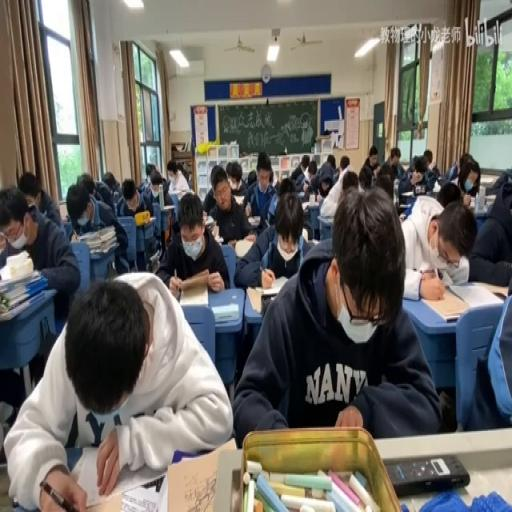calculator: (164, 443, 230, 512), (448, 280, 504, 309), (0, 266, 39, 292), (178, 278, 208, 304), (76, 224, 113, 242), (212, 302, 238, 322), (234, 236, 256, 258), (89, 244, 117, 258), (136, 214, 158, 228), (148, 248, 160, 270), (205, 215, 217, 232), (170, 188, 188, 199), (232, 193, 246, 205), (483, 193, 496, 205), (298, 188, 310, 200), (246, 214, 260, 224), (306, 234, 320, 244), (160, 203, 174, 212), (318, 213, 332, 222), (431, 181, 440, 192), (400, 189, 414, 196), (398, 202, 408, 210), (309, 192, 317, 202), (301, 226, 307, 239), (301, 201, 310, 209), (202, 209, 208, 221), (214, 236, 223, 243)
paper: (8, 271, 232, 512), (232, 184, 434, 442), (0, 183, 82, 323), (398, 192, 472, 299), (157, 189, 227, 292), (69, 178, 131, 276), (467, 170, 512, 288), (244, 151, 278, 230), (397, 152, 434, 211), (202, 161, 238, 216), (438, 151, 472, 192), (118, 178, 150, 219), (145, 164, 174, 206), (304, 161, 324, 199), (384, 145, 403, 181), (362, 145, 380, 178), (102, 169, 120, 195), (291, 155, 308, 182), (340, 170, 358, 194), (81, 175, 97, 199), (276, 176, 294, 196), (178, 162, 190, 186), (406, 155, 417, 178), (427, 160, 440, 178), (423, 148, 433, 168), (246, 168, 257, 186), (339, 154, 350, 170), (142, 170, 151, 188), (167, 169, 177, 182), (326, 154, 334, 169), (272, 170, 278, 186)
person: (386, 454, 470, 496), (260, 292, 278, 316)
